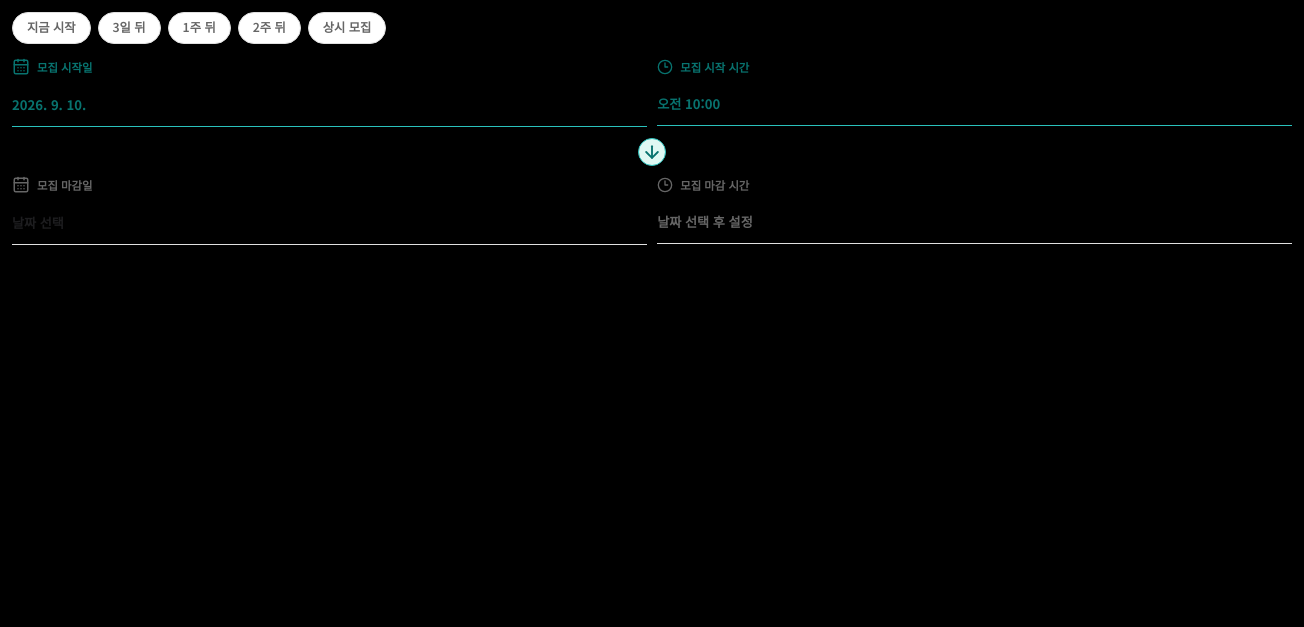
DateRangePicker › Given a selected start date, When the end calendar opens, Then earlier dates are disabled
The image size is (1304, 627).
What coordinates should you click on to do the following:
click the button with aria-label "모집 마감일 선택"
I would click on:
 (38, 222)
Its box is [12,201,647,245].
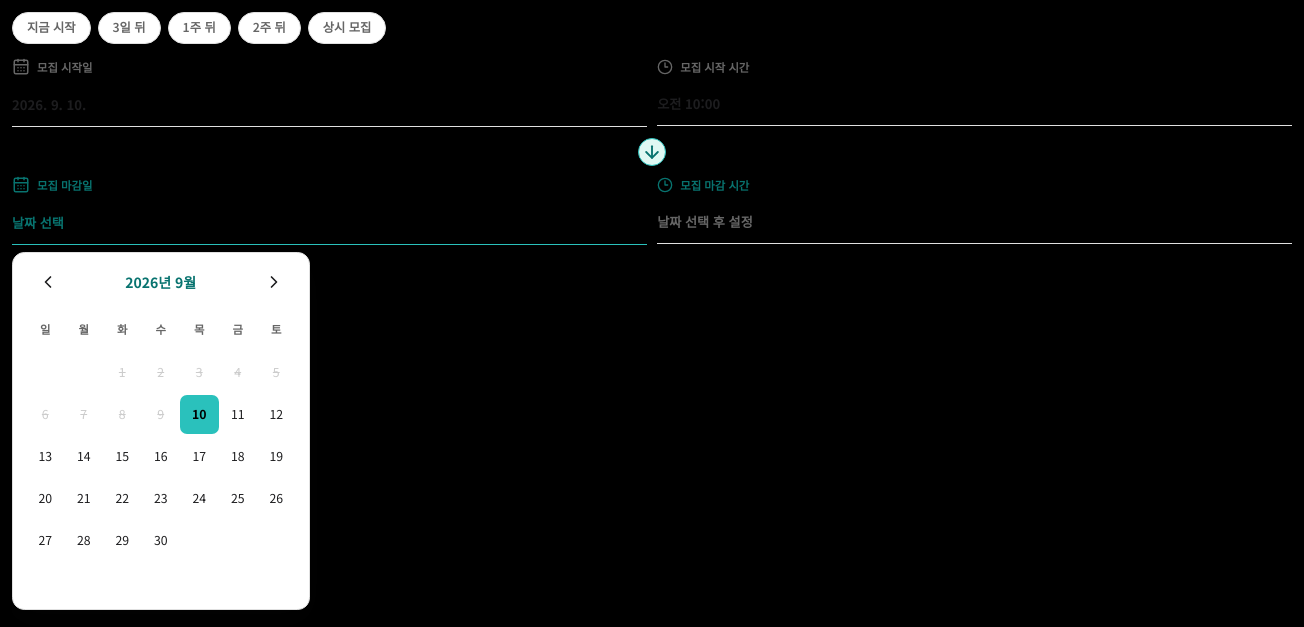
Check: the button named "2026년 9월 9일" is disabled, box [142,395,180,434]
Check: the button named "2026년 9월 10일" is enabled, box [180,395,218,434]
